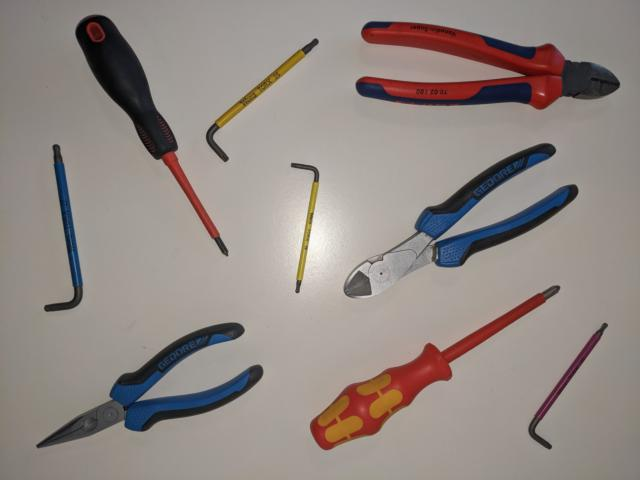Inbusschlüssel: (203, 34, 323, 165), (525, 319, 611, 454), (40, 144, 86, 316), (287, 161, 321, 297)
Schraubendreher: (307, 281, 564, 451), (73, 12, 232, 260)
Seitenschneider: (338, 139, 581, 303), (354, 19, 623, 112)
Zange: (32, 319, 269, 454)
